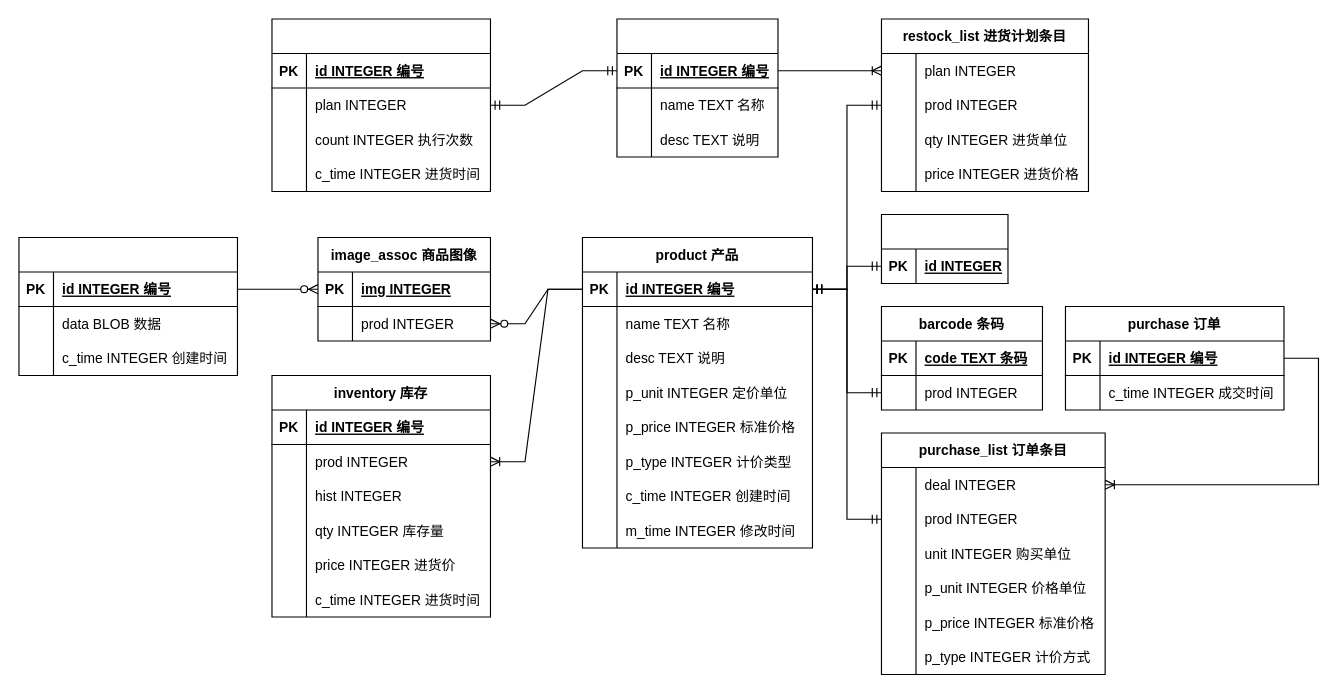
This 1337x693 diagram has some shape labels left out. Here are the shapes that lost their labels. From the top down, the box of each, then its label:
(271, 18, 490, 191): restock_hist 进货记录
(616, 18, 778, 157): restock 进货计划
(880, 213, 1008, 283): featured 推荐
(18, 236, 237, 375): image 图像
